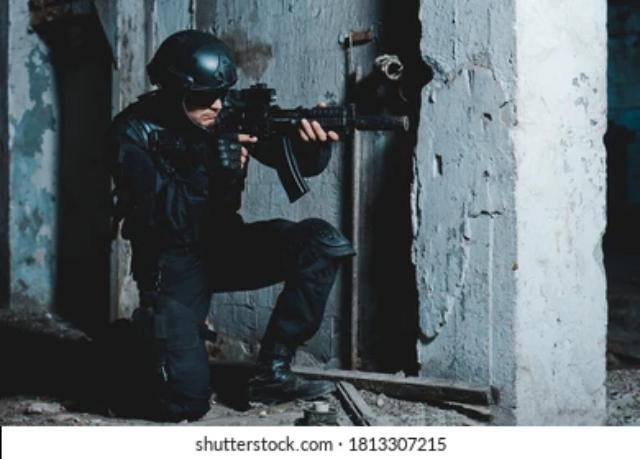other: (96, 38, 342, 399)
